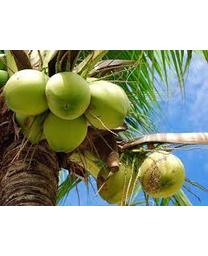coconut: (139, 148, 186, 199), (85, 79, 129, 132), (45, 71, 91, 120), (5, 69, 49, 116), (96, 158, 136, 204), (47, 108, 86, 154)
